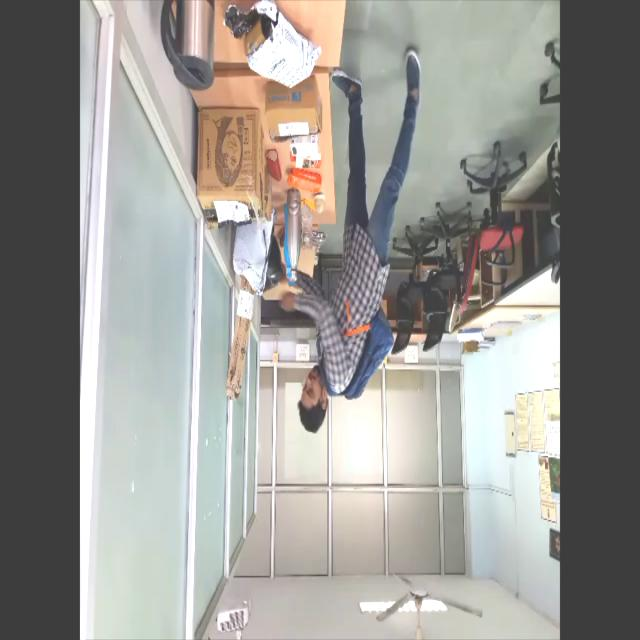normal: (261, 41, 424, 454)
